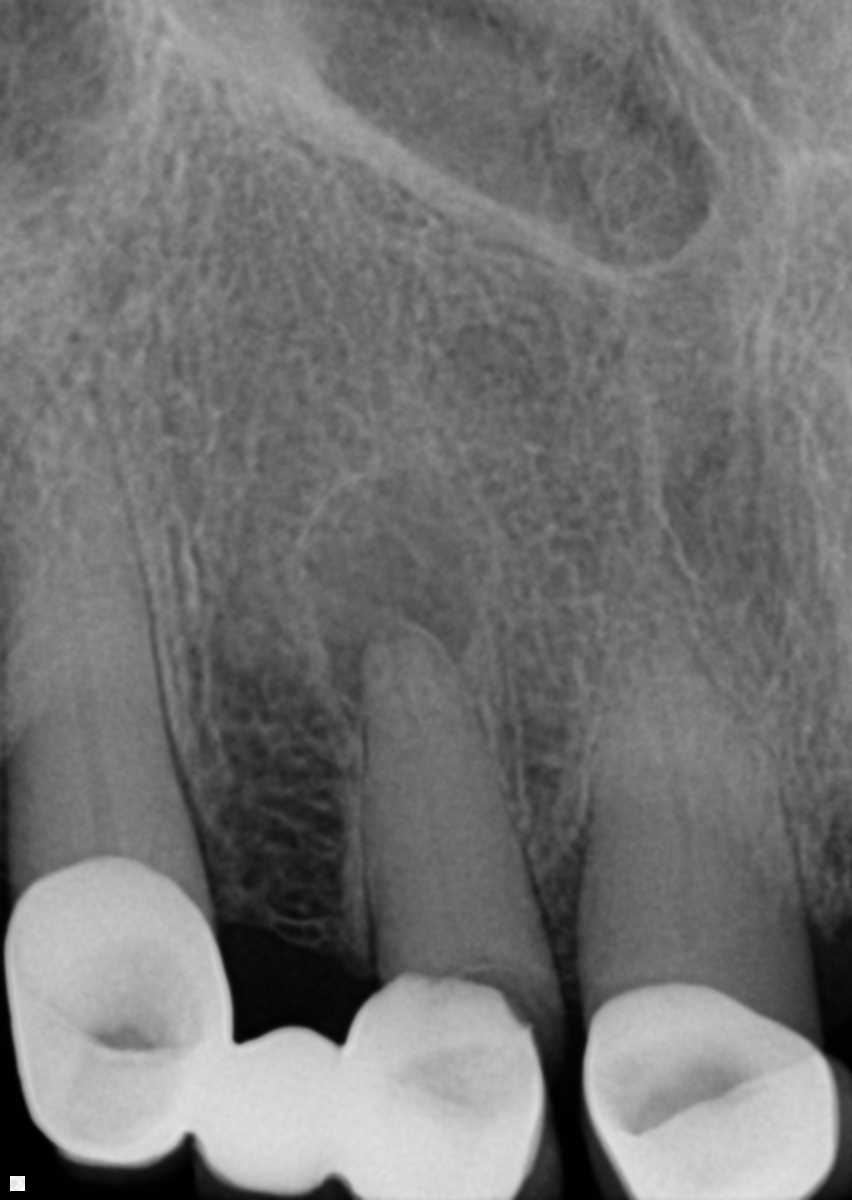Apical Lesion: (305, 460, 500, 732)
Main Canal: (385, 631, 468, 959), (54, 444, 115, 857), (632, 602, 699, 942)
Main Root: (0, 350, 201, 878), (574, 569, 798, 972), (360, 627, 565, 1007)
decay: (459, 964, 561, 1046)
